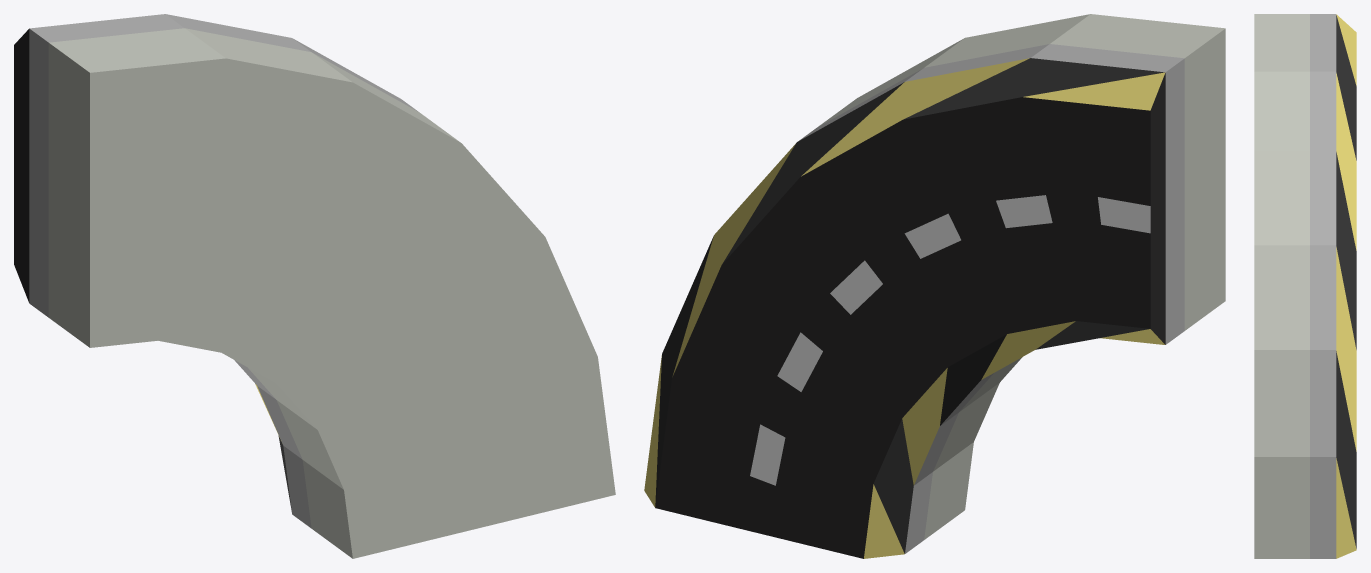
The model's file is forklift_path_floor_right_small.fbx.
3 views of the same model, side by side, from view 1: azimuth 30°, elevation 25°; view 2: azimuth 150°, elevation 25°; view 3: azimuth 270°, elevation 25° (orthographic). The views are drawn at different scales.
Parts seen in each view (by area): view 1: right_small; view 2: right_small; view 3: right_small.
Boxes of the visible parts, box(x1,y1,x2,y2) form: right_small: box(14, 14, 615, 558); right_small: box(644, 14, 1225, 558); right_small: box(1254, 14, 1356, 558).
Size of the model in its own units: 200 by 200 by 50.
